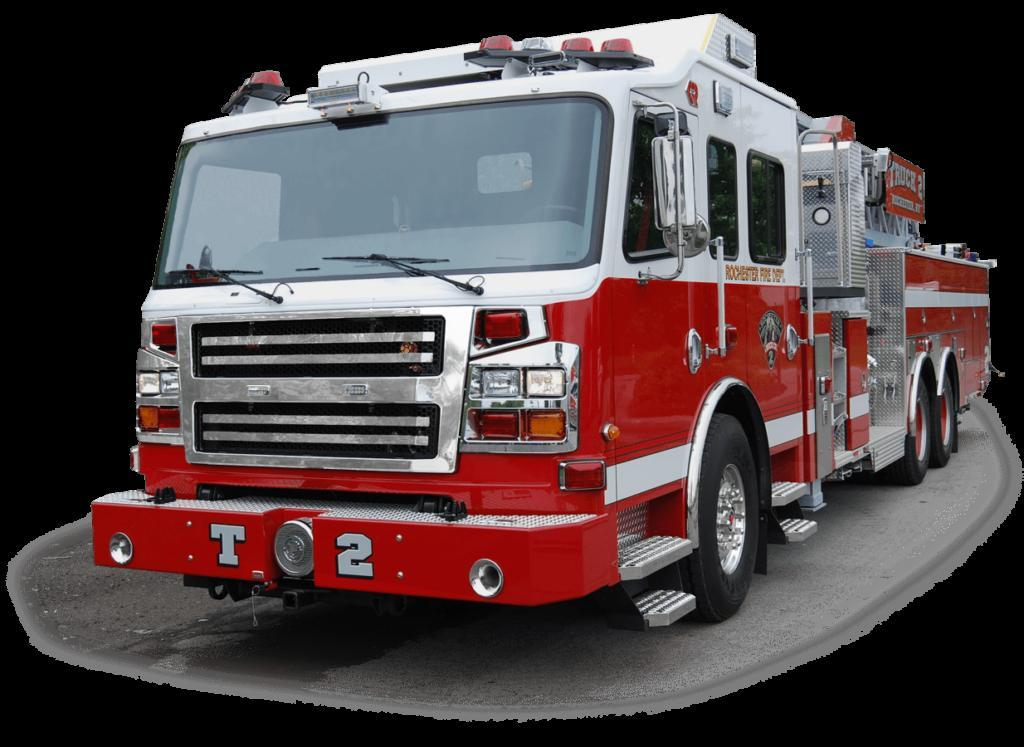Fire-engine: (87, 16, 996, 630)
